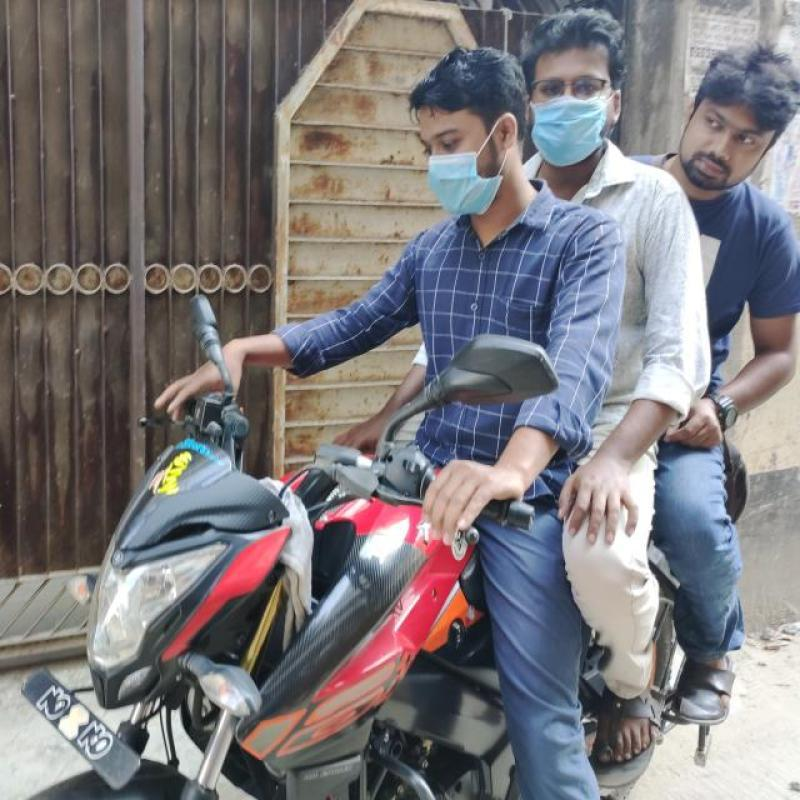nohelmet: (392, 46, 517, 218), (686, 35, 785, 196), (534, 12, 635, 164)
